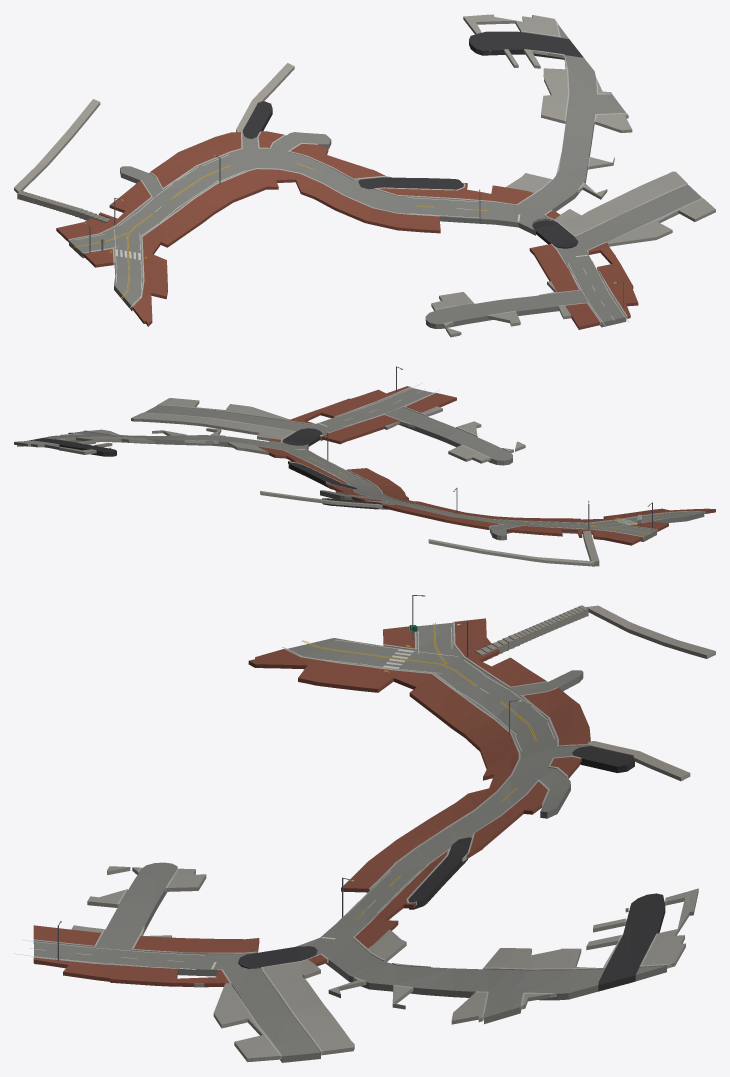
The picture shows the model from 3 angles, top to bottom: view 1: azimuth 30°, elevation 25°; view 2: azimuth 150°, elevation 25°; view 3: azimuth 270°, elevation 25°; orthographic projection. The views are drawn at different scales.
Size of the model in its own units: 148 by 25.63 by 118.
